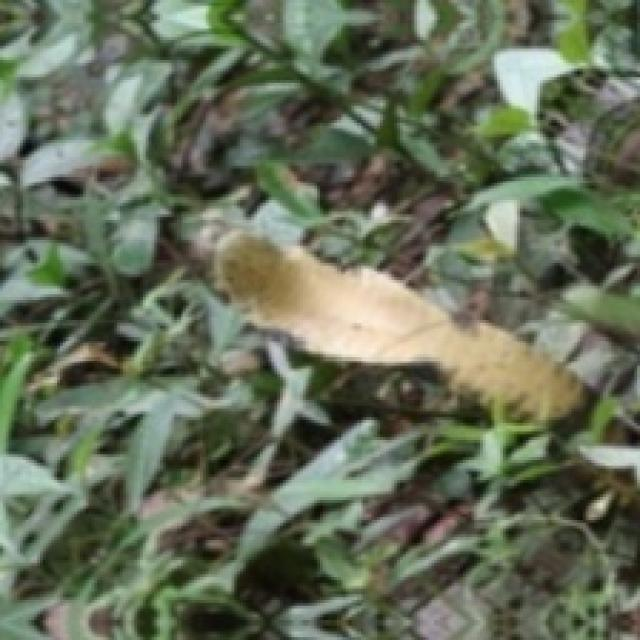king cobra: (214, 231, 580, 417)
